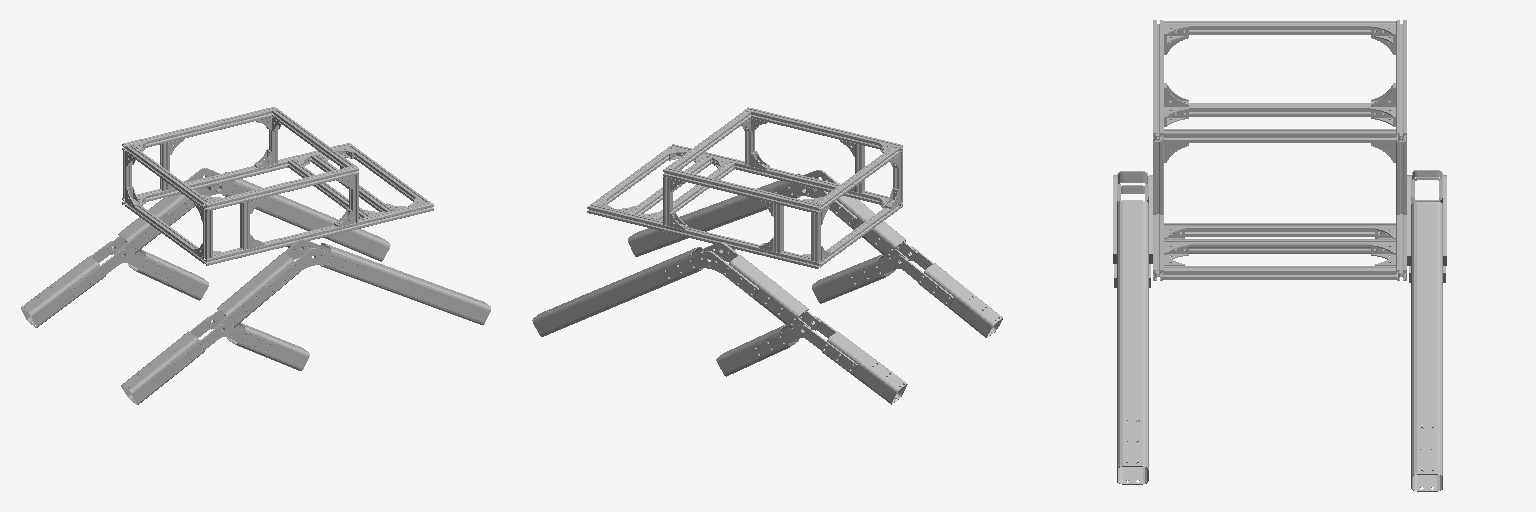
The robot description file, URDF, robot "rover":
<?xml version="1.0" encoding="utf-8"?>
<!-- This URDF was automatically created by SolidWorks to URDF Exporter! Originally created by [author] ([email redacted]) 
     Commit Version: 1.6.0-4-g7f85cfe  Build Version: 1.6.7995.38578
     For more information, please see http://wiki.ros.org/sw_urdf_exporter -->
<robot
  name="rover">
  <link
    name="chassis">
    <inertial>
      <origin
        xyz="0.280596630449412 0.391929398096866 0.497299040946044"
        rpy="0 0 0" />
      <mass
        value="1.29640563513338" />
      <inertia
        ixx="0.00672846851367381"
        ixy="1.67488363226178E-11"
        ixz="4.18701658746673E-12"
        iyy="0.0141290723043649"
        iyz="4.23106487277759E-11"
        izz="0.0202362014370819" />
    </inertial>
    <visual>
      <origin
        xyz="0 0 0"
        rpy="0 0 0" />
      <geometry>
        <mesh
          filename="package://rover/meshes/chassis.STL" />
      </geometry>
      <material
        name="">
        <color
          rgba="0.752941176470588 0.752941176470588 0.752941176470588 1" />
      </material>
    </visual>
    <collision>
      <origin
        xyz="0 0 0"
        rpy="0 0 0" />
      <geometry>
        <mesh
          filename="package://rover/meshes/chassis.STL" />
      </geometry>
    </collision>
  </link>
  <link
    name="right_rocker">
    <inertial>
      <origin
        xyz="-0.0569379504262081 -0.0279401827117303 0.173105600500696"
        rpy="0 0 0" />
      <mass
        value="0.702057959029176" />
      <inertia
        ixx="0.00201938596176855"
        ixy="8.38446274601664E-19"
        ixz="-0.00197087340304265"
        iyy="0.00810448763367223"
        iyz="3.52036066567989E-19"
        izz="0.00646378679421278" />
    </inertial>
    <visual>
      <origin
        xyz="0 0 0"
        rpy="0 0 0" />
      <geometry>
        <mesh
          filename="package://rover/meshes/rocker_1.STL" />
      </geometry>
      <material
        name="">
        <color
          rgba="0.752941176470588 0.752941176470588 0.752941176470588 1" />
      </material>
    </visual>
    <collision>
      <origin
        xyz="0 0 0"
        rpy="0 0 0" />
      <geometry>
        <mesh
          filename="package://rover/meshes/rocker_1.STL" />
      </geometry>
    </collision>
  </link>
  <joint
    name="chassis_right_rocker_joint"
    type="fixed">
    <origin
      xyz="0.256227202845866 0.104049397997044 0.442431681089809"
      rpy="3.14159265358979 0 0" />
    <parent
      link="chassis" />
    <child
      link="right_rocker" />
    <axis
      xyz="0 1 0" />
  </joint>
  <link
    name="front_right_wheel">
    <inertial>
      <origin
        xyz="-0.000176268265629331 -0.063545275407954 -0.000101180829060271"
        rpy="0 0 0" />
      <mass
        value="3.71098878156725" />
      <inertia
        ixx="0.0272042721492542"
        ixy="4.78292852750308E-05"
        ixz="-4.80095002679056E-05"
        iyy="0.0486688742529404"
        iyz="2.76468584338433E-05"
        izz="0.0272554582911533" />
    </inertial>
    <visual>
      <origin
        xyz="0 0 0"
        rpy="0 0 0" />
      <geometry>
        <mesh
          filename="package://rover/meshes/wheel_1.STL" />
      </geometry>
      <material
        name="">
        <color
          rgba="0.752941176470588 0.752941176470588 0.752941176470588 1" />
      </material>
    </visual>
    <collision>
      <origin
        xyz="0 0 0"
        rpy="0 0 0" />
      <geometry>
        <mesh
          filename="package://rover/meshes/wheel_1.STL" />
      </geometry>
    </collision>
  </link>
  <joint
    name="front_right_wheel_joint"
    type="continuous">
    <origin
      xyz="0.566011190291999 0.1316352 0.343614113670245"
      rpy="0 0 0" />
    <parent
      link="right_rocker" />
    <child
      link="front_right_wheel" />
    <axis
      xyz="0 1 0" />
  </joint>
  <link
    name="rear_right_wheel">
    <inertial>
      <origin
        xyz="0.000178620256626905 -0.0635452759401471 -9.69747179342118E-05"
        rpy="0 0 0" />
      <mass
        value="3.71098882585926" />
      <inertia
        ixx="0.0271986135719232"
        ixy="-4.86694249211029E-05"
        ixz="4.4432824626282E-05"
        iyy="0.048668870619602"
        iyz="2.62407892171943E-05"
        izz="0.0272611104614586" />
    </inertial>
    <visual>
      <origin
        xyz="0 0 0"
        rpy="0 0 0" />
      <geometry>
        <mesh
          filename="package://rover/meshes/wheel_2.STL" />
      </geometry>
      <material
        name="">
        <color
          rgba="0.752941176470588 0.752941176470588 0.752941176470588 1" />
      </material>
    </visual>
    <collision>
      <origin
        xyz="0 0 0"
        rpy="0 0 0" />
      <geometry>
        <mesh
          filename="package://rover/meshes/wheel_2.STL" />
      </geometry>
    </collision>
  </link>
  <joint
    name="rear_right_wheel_joint"
    type="continuous">
    <origin
      xyz="-0.569418798760428 0.1316347 0.337858198560885"
      rpy="0 0 0" />
    <parent
      link="right_rocker" />
    <child
      link="rear_right_wheel" />
    <axis
      xyz="0 1 0" />
  </joint>
  <link
    name="middle_right_wheel">
    <inertial>
      <origin
        xyz="0.00194962016118483 -0.0675452750876231 0.00121412273220574"
        rpy="0 0 0" />
      <mass
        value="3.71098876791251" />
      <inertia
        ixx="0.0272070703663635"
        ixy="4.70156922027863E-05"
        ixz="-4.9399498887416E-05"
        iyy="0.0486688742503798"
        iyz="2.90088130261499E-05"
        izz="0.0272526600966611" />
    </inertial>
    <visual>
      <origin
        xyz="0 0 0"
        rpy="0 0 0" />
      <geometry>
        <mesh
          filename="package://rover/meshes/wheel_3.STL" />
      </geometry>
      <material
        name="">
        <color
          rgba="0.752941176470588 0.752941176470588 0.752941176470588 1" />
      </material>
    </visual>
    <collision>
      <origin
        xyz="0 0 0"
        rpy="0 0 0" />
      <geometry>
        <mesh
          filename="package://rover/meshes/wheel_3.STL" />
      </geometry>
    </collision>
  </link>
  <joint
    name="middle_right_wheel_joint"
    type="continuous">
    <origin
      xyz="0.00389311933816788 0.135634699999995 0.348264389277544"
      rpy="0 0 0" />
    <parent
      link="right_rocker" />
    <child
      link="middle_right_wheel" />
    <axis
      xyz="0 1 0" />
  </joint>
  <link
    name="left_rocker">
    <inertial>
      <origin
        xyz="-0.0634016522720201 0.0349398172882701 0.170844109095454"
        rpy="0 0 0" />
      <mass
        value="0.702057959029149" />
      <inertia
        ixx="0.00217365418533618"
        ixy="6.73373283262978E-19"
        ixz="-0.00213217567457792"
        iyy="0.00810448763367225"
        iyz="9.78126874401938E-19"
        izz="0.00630951857064517" />
    </inertial>
    <visual>
      <origin
        xyz="0 0 0"
        rpy="0 0 0" />
      <geometry>
        <mesh
          filename="package://rover/meshes/rocker_2.STL" />
      </geometry>
      <material
        name="">
        <color
          rgba="0.752941176470588 0.752941176470588 0.752941176470588 1" />
      </material>
    </visual>
    <collision>
      <origin
        xyz="0 0 0"
        rpy="0 0 0" />
      <geometry>
        <mesh
          filename="package://rover/meshes/rocker_2.STL" />
      </geometry>
    </collision>
  </link>
  <joint
    name="chassis_left_rocker_joint"
    type="fixed">
    <origin
      xyz="0.257280649253525 0.686809397997044 0.442407585082231"
      rpy="3.14159265358979 0 0" />
    <parent
      link="chassis" />
    <child
      link="left_rocker" />
    <axis
      xyz="0 1 0" />
  </joint>
  <link
    name="front_left_wheel">
    <inertial>
      <origin
        xyz="0.00194021425049595 0.0675452760210624 0.0012290934521642"
        rpy="0 0 0" />
      <mass
        value="3.71098880202612" />
      <inertia
        ixx="0.0272054221797023"
        ixy="-4.6545735350503E-05"
        ixz="-4.86053275352078E-05"
        iyy="0.0486688742211578"
        iyz="-2.97572117749254E-05"
        izz="0.0272543080141054" />
    </inertial>
    <visual>
      <origin
        xyz="0 0 0"
        rpy="0 0 0" />
      <geometry>
        <mesh
          filename="package://rover/meshes/wheel_4.STL" />
      </geometry>
      <material
        name="">
        <color
          rgba="0.752941176470588 0.752941176470588 0.752941176470588 1" />
      </material>
    </visual>
    <collision>
      <origin
        xyz="0 0 0"
        rpy="0 0 0" />
      <geometry>
        <mesh
          filename="package://rover/meshes/wheel_4.STL" />
      </geometry>
    </collision>
  </link>
  <joint
    name="front_left_wheel_joint"
    type="continuous">
    <origin
      xyz="0.550522165589643 -0.128635200000009 0.363405762447953"
      rpy="0 0 0" />
    <parent
      link="left_rocker" />
    <child
      link="front_left_wheel" />
    <axis
      xyz="0 1 0" />
  </joint>
  <link
    name="middle_left_wheel">
    <inertial>
      <origin
        xyz="0.00190412164591511 0.0675452763004372 0.00128429872637638"
        rpy="0 0 0" />
      <mass
        value="3.7109887931054" />
      <inertia
        ixx="0.0272082525262715"
        ixy="-4.56720854196087E-05"
        ixz="-4.99283758016243E-05"
        iyy="0.0486688742002614"
        iyz="-3.10813718997883E-05"
        izz="0.0272514775785934" />
    </inertial>
    <visual>
      <origin
        xyz="0 0 0"
        rpy="0 0 0" />
      <geometry>
        <mesh
          filename="package://rover/meshes/wheel_5.STL" />
      </geometry>
      <material
        name="">
        <color
          rgba="0.752941176470588 0.752941176470588 0.752941176470588 1" />
      </material>
    </visual>
    <collision>
      <origin
        xyz="0 0 0"
        rpy="0 0 0" />
      <geometry>
        <mesh
          filename="package://rover/meshes/wheel_5.STL" />
      </geometry>
    </collision>
  </link>
  <joint
    name="middle_left_wheel_joint"
    type="continuous">
    <origin
      xyz="-0.00926565490461811 -0.128635699999999 0.348270005795649"
      rpy="0 0 0" />
    <parent
      link="left_rocker" />
    <child
      link="middle_left_wheel" />
    <axis
      xyz="0 1 0" />
  </joint>
  <link
    name="rear_left_wheel">
    <inertial>
      <origin
        xyz="0.000183308022644324 0.063545275877115 -8.77894032265403E-05"
        rpy="0 0 0" />
      <mass
        value="3.71098880708039" />
      <inertia
        ixx="0.0271974322176279"
        ixy="4.97534168410985E-05"
        ixz="4.36810350456356E-05"
        iyy="0.0486688742475462"
        iyz="-2.40124238018518E-05"
        izz="0.027262298065" />
    </inertial>
    <visual>
      <origin
        xyz="0 0 0"
        rpy="0 0 0" />
      <geometry>
        <mesh
          filename="package://rover/meshes/wheel_6.STL" />
      </geometry>
      <material
        name="">
        <color
          rgba="0.752941176470588 0.752941176470588 0.752941176470588 1" />
      </material>
    </visual>
    <collision>
      <origin
        xyz="0 0 0"
        rpy="0 0 0" />
      <geometry>
        <mesh
          filename="package://rover/meshes/wheel_6.STL" />
      </geometry>
    </collision>
  </link>
  <joint
    name="rear_left_wheel_joint"
    type="continuous">
    <origin
      xyz="-0.585325281230279 -0.124635699999999 0.308803919717537"
      rpy="0 0 0" />
    <parent
      link="left_rocker" />
    <child
      link="rear_left_wheel" />
    <axis
      xyz="0 1 0" />
  </joint>
  <gazebo>
    <plugin name="gazebo_ros_control" filename="libgazebo_ros_control.so">
      <robotNamespace>/</robotNamespace>
      <controlPeriod>0.001</controlPeriod>
      <legacyModeNS>false</legacyModeNS>
    </plugin>
  </gazebo>
  <gazebo>
      <plugin name="diff_drive_controller" filename="libgazebo_ros_diff_drive.so">
        <legacyMode>false</legacyMode>
        <alwaysOn>true</alwaysOn>
        <updateRate>1000.0</updateRate>
        <leftJoint>front_left_wheel_joint, middle_left_wheel_joint, rear_left_wheel_joint</leftJoint>
        <rightJoint>front_right_wheel_joint, middle_right_wheel_joint, rear_right_wheel_joint</rightJoint>
        <wheelSeparation>0.5</wheelSeparation>
        <wheelDiameter>0.2</wheelDiameter>
        <wheelTorque>10</wheelTorque>
        <publishTf>1</publishTf>
        <odometryFrame>map</odometryFrame>
        <commandTopic>cmd_vel</commandTopic> 
        <odometryTopic>odom</odometryTopic>
        <robotBaseFrame>chassis</robotBaseFrame>
        <wheelAcceleration>2.8</wheelAcceleration>
        <publishWheelJointState>true</publishWheelJointState>
        <publishWheelTF>false</publishWheelTF>
        <odometrySource>world</odometrySource>
        <rosDebugLevel>Debug</rosDebugLevel>
      </plugin>
  </gazebo>
  <gazebo reference="front_left_wheel">
    <mu1 value="1.0"/>
    <mu2 value="1.0"/>
    <kp value="10000000.0" />
    <kd value="1.0" />
    <fdir1 value="1 0 0"/>
  </gazebo>

  <gazebo reference="front_right_wheel">
  <mu1 value="1.0"/>
  <mu2 value="1.0"/>
  <kp value="10000000.0" />
  <kd value="1.0" />
  <fdir1 value="1 0 0"/>
  </gazebo>

  <gazebo reference="rear_left_wheel">
    <mu1 value="1.0"/>
    <mu2 value="1.0"/>
    <kp value="10000000.0" />
    <kd value="1.0" />
    <fdir1 value="1 0 0"/>
  </gazebo>

  <gazebo reference="rear_left_wheel">
    <mu1 value="1.0"/>
    <mu2 value="1.0"/>
    <kp value="10000000.0" />
    <kd value="1.0" />
    <fdir1 value="1 0 0"/>
  </gazebo>
  <!--######################################################################-->
  <transmission name="front_left_wheel_trans" type="SimpleTransmission">
    <type>transmission_interface/SimpleTransmission</type>
    <actuator name="front_left_wheel_motor">
    <hardwareInterface>hardware_interface/VelocityJointInterface</hardwareInterface>
    <mechanicalReduction>1</mechanicalReduction>
    </actuator>
    <joint name="front_left_wheel_joint">
    <hardwareInterface>hardware_interface/VelocityJointInterface</hardwareInterface>
    </joint>
  </transmission>

  <transmission name="middle_left_wheel_trans" type="SimpleTransmission">
    <type>transmission_interface/SimpleTransmission</type>
    <actuator name="middle_left_wheel_motor">
    <hardwareInterface>hardware_interface/VelocityJointInterface</hardwareInterface>
    <mechanicalReduction>1</mechanicalReduction>
    </actuator>
    <joint name="middle_left_wheel_joint">
    <hardwareInterface>hardware_interface/VelocityJointInterface</hardwareInterface>
    </joint>
  </transmission>

  <transmission name="middle_right_wheel_trans" type="SimpleTransmission">
    <type>transmission_interface/SimpleTransmission</type>
    <actuator name="middle_right_wheel_motor">
    <hardwareInterface>hardware_interface/VelocityJointInterface</hardwareInterface>
    <mechanicalReduction>1</mechanicalReduction>
    </actuator>
    <joint name="middle_right_wheel_joint">
    <hardwareInterface>hardware_interface/VelocityJointInterface</hardwareInterface>
    </joint>
  </transmission>

  <transmission name="front_right_wheel_trans" type="SimpleTransmission">
    <type>transmission_interface/SimpleTransmission</type>
    <actuator name="front_right_wheel_motor">
    <hardwareInterface>hardware_interface/VelocityJointInterface</hardwareInterface>
    <mechanicalReduction>1</mechanicalReduction>
    </actuator>
    <joint name="front_right_wheel_joint">
    <hardwareInterface>hardware_interface/VelocityJointInterface</hardwareInterface>
    </joint>
  </transmission>

  <transmission name="rear_left_wheel_trans" type="SimpleTransmission">
    <type>transmission_interface/SimpleTransmission</type>
    <actuator name="rear_left_wheel_motor">
    <hardwareInterface>hardware_interface/VelocityJointInterface</hardwareInterface>
    <mechanicalReduction>1</mechanicalReduction>
    </actuator>
    <joint name="rear_left_wheel_joint">
    <hardwareInterface>hardware_interface/VelocityJointInterface</hardwareInterface>
    </joint>
  </transmission>

  <transmission name="rear_right_wheel_trans" type="SimpleTransmission">
    <type>transmission_interface/SimpleTransmission</type>
    <actuator name="rear_right_wheel_motor">
    <hardwareInterface>hardware_interface/VelocityJointInterface</hardwareInterface>
    <mechanicalReduction>1</mechanicalReduction>
    </actuator>
    <joint name="rear_right_wheel_joint">
      <hardwareInterface>hardware_interface/VelocityJointInterface</hardwareInterface>
    </joint>
  </transmission>
</robot>

--- What the picture shows (computed from the rendered views, not written in the file) ---
3 views of the same robot in one strip: view 1: azimuth 30°, elevation 25°; view 2: azimuth 150°, elevation 25°; view 3: azimuth 270°, elevation 25° (orthographic).
Robot: rover — 9 links, 8 joints (6 continuous, 2 fixed); root link chassis; default pose: every joint at zero.
Visible links, largest first — view 1: chassis, right_rocker, left_rocker; view 2: chassis, left_rocker, right_rocker; view 3: chassis, right_rocker, left_rocker.
Link boxes in pixels (x1,y1,x2,y2): chassis: [122, 107, 433, 265]; right_rocker: [121, 239, 490, 404]; left_rocker: [21, 168, 390, 327]; chassis: [587, 107, 902, 268]; left_rocker: [532, 242, 907, 404]; right_rocker: [628, 170, 1002, 337]; chassis: [1153, 20, 1406, 280]; right_rocker: [1113, 171, 1152, 484]; left_rocker: [1407, 170, 1446, 491].
Size in the robot's own frame: 1.13 by 0.5898 by 0.5422 metres.
3 mesh visuals loaded from 9 distinct referenced files (3 binary STL); not drawn: 6 (reference not matched to a file when rendering).